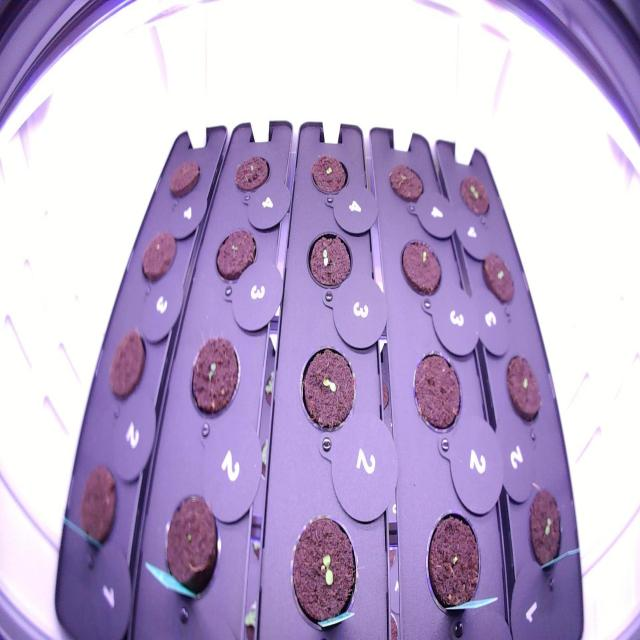germination: (282, 509, 364, 633), (292, 338, 358, 439), (185, 330, 243, 428), (518, 480, 567, 584), (497, 344, 548, 435), (300, 226, 356, 295), (394, 230, 446, 302), (209, 223, 260, 289), (476, 243, 518, 317), (304, 147, 351, 203), (454, 168, 494, 223)
pod: (419, 500, 488, 628), (156, 485, 224, 609), (407, 342, 464, 442), (75, 457, 122, 561), (104, 322, 150, 408), (135, 223, 179, 292), (230, 147, 274, 199), (386, 156, 428, 209), (165, 151, 205, 204)
